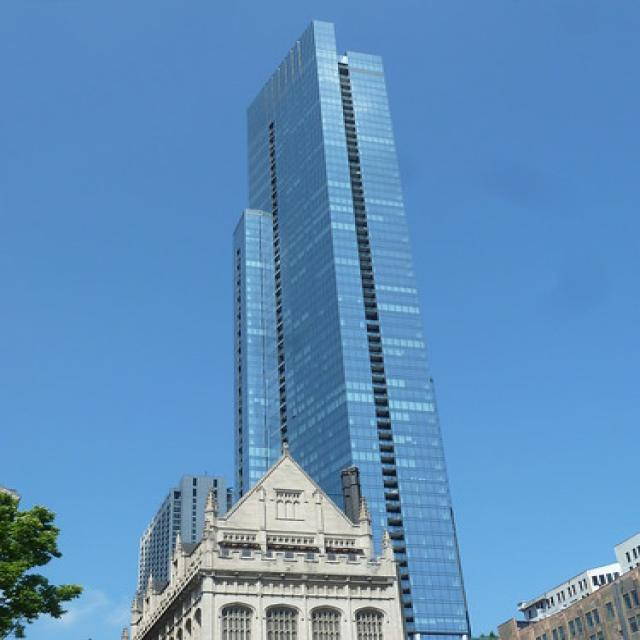building: (217, 19, 478, 640)
